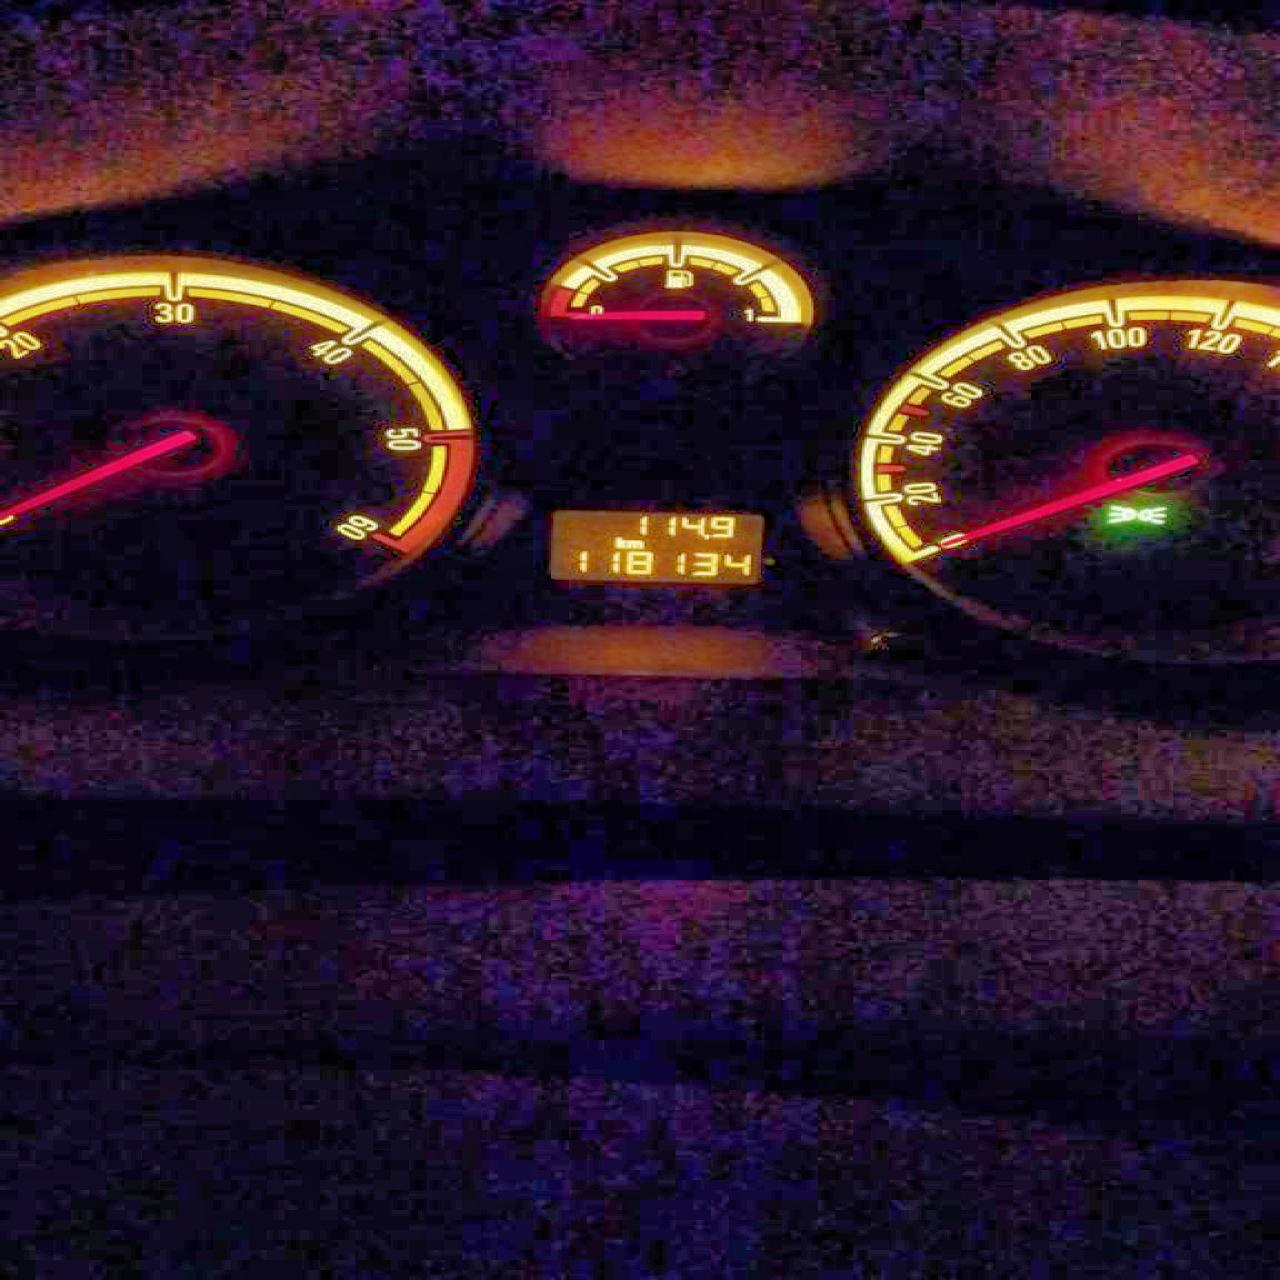-: (702, 531, 709, 542)
1: (673, 550, 687, 576), (608, 550, 622, 572), (635, 515, 647, 535), (665, 515, 675, 536), (578, 549, 586, 572)
3: (692, 550, 717, 576)
4: (722, 551, 749, 576), (678, 515, 702, 535)
8: (622, 550, 651, 574)
9: (709, 515, 731, 537)
X: (625, 538, 645, 547), (611, 535, 625, 547)
odometer: (545, 508, 767, 587)
